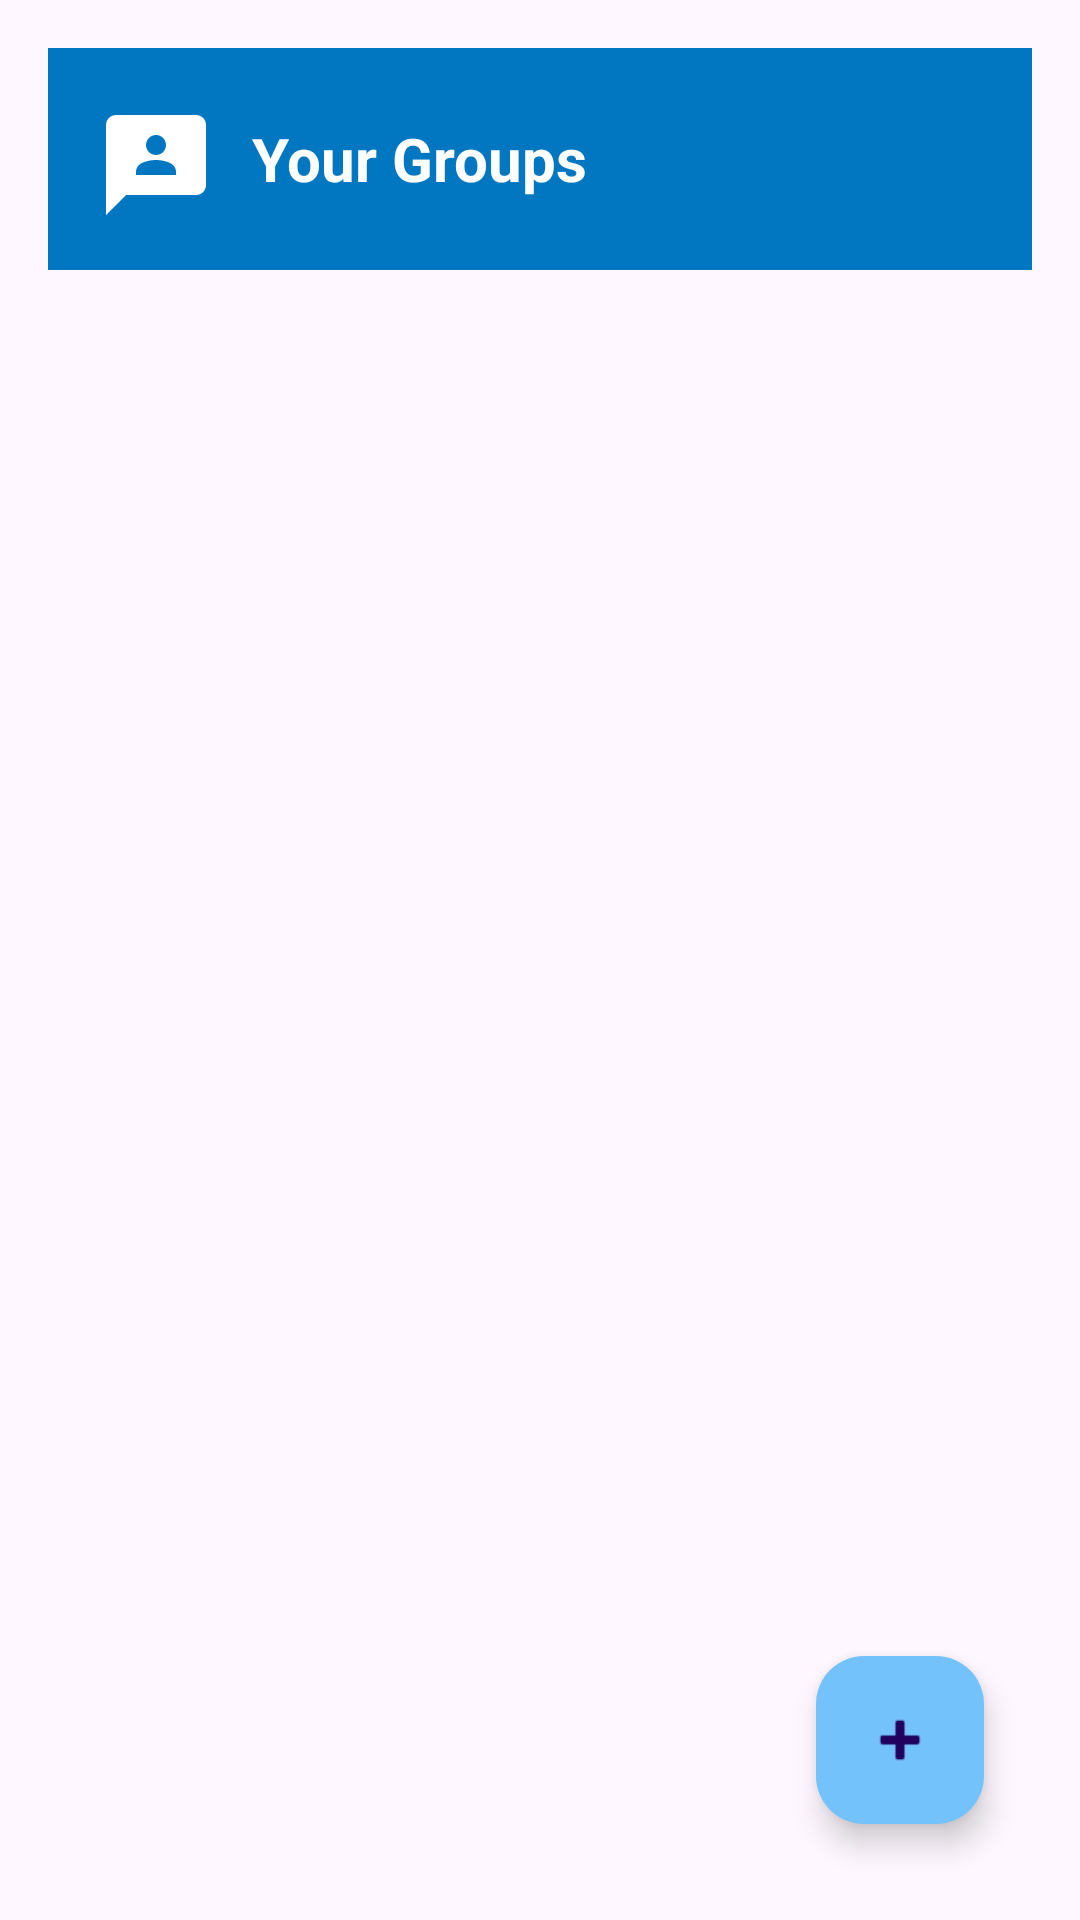

Where icons sit on this 1080×1920 app screen, as {"left": x1, "top": y1, "right": x2, "bottom": y2}:
Create Group: {"left": 816, "top": 1656, "right": 984, "bottom": 1824}
